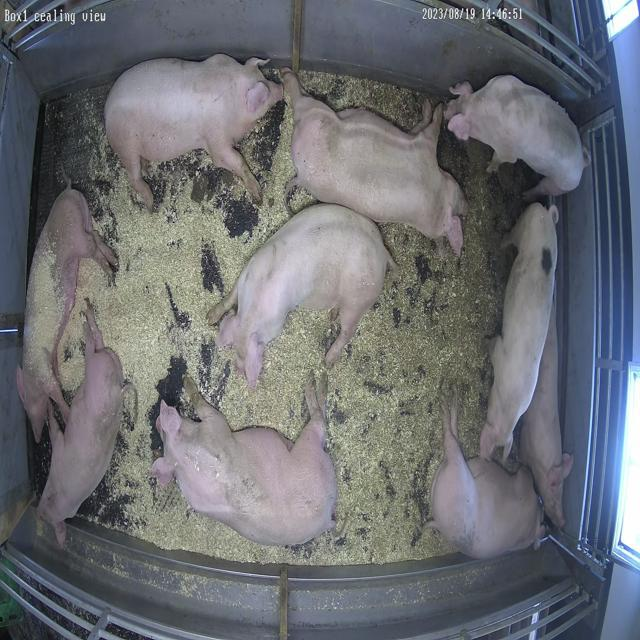Dirt: (380, 127, 539, 454), (295, 70, 424, 128)
Pig: (209, 204, 396, 388), (284, 68, 468, 254), (152, 378, 338, 546), (104, 54, 283, 210), (20, 185, 116, 440), (37, 306, 121, 548), (481, 203, 559, 458), (430, 391, 546, 560), (446, 75, 590, 198), (520, 303, 575, 529)
